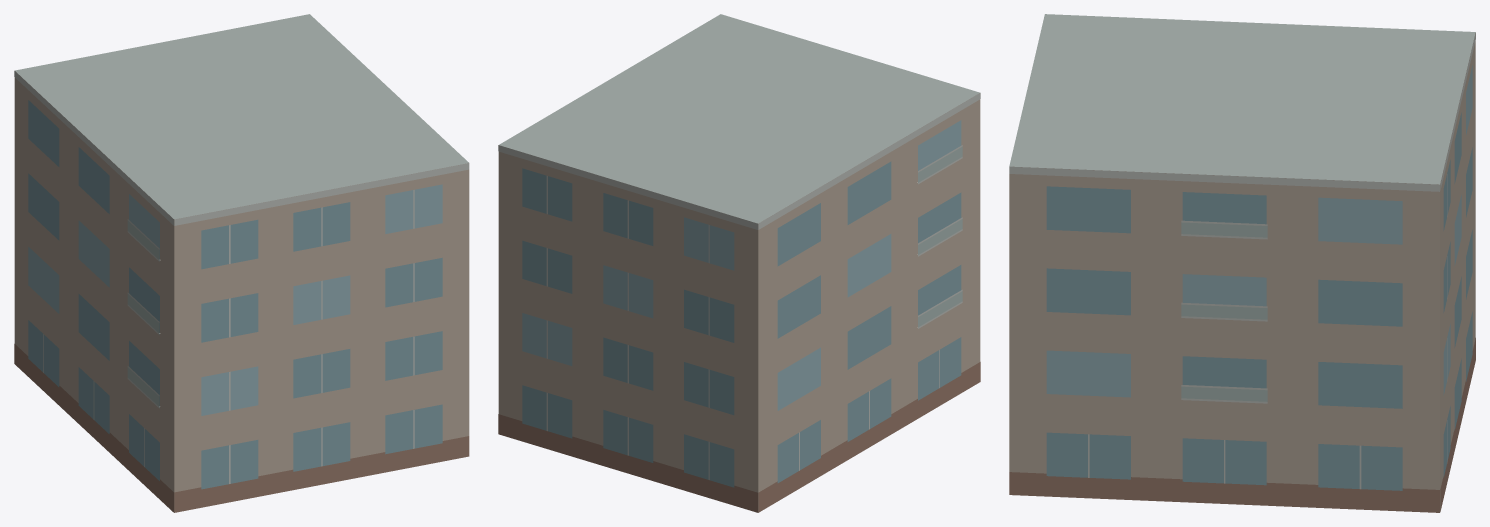
The model's file is survey-upis-32798507.glb.
3 renders of one model, left to right at view 1: azimuth 30°, elevation 25°; view 2: azimuth 150°, elevation 25°; view 3: azimuth 270°, elevation 25°, orthographic. The views are drawn at different scales.
Visible parts, largest first — view 1: survey-upis-32798507.tmp; view 2: survey-upis-32798507.tmp; view 3: survey-upis-32798507.tmp.
Part boxes in pixels (<box>): survey-upis-32798507.tmp: <box>14,14,469,512</box>; survey-upis-32798507.tmp: <box>498,14,980,512</box>; survey-upis-32798507.tmp: <box>1009,14,1475,512</box>.
Size of the model in its own units: 12.15 by 10.9 by 14.05.
